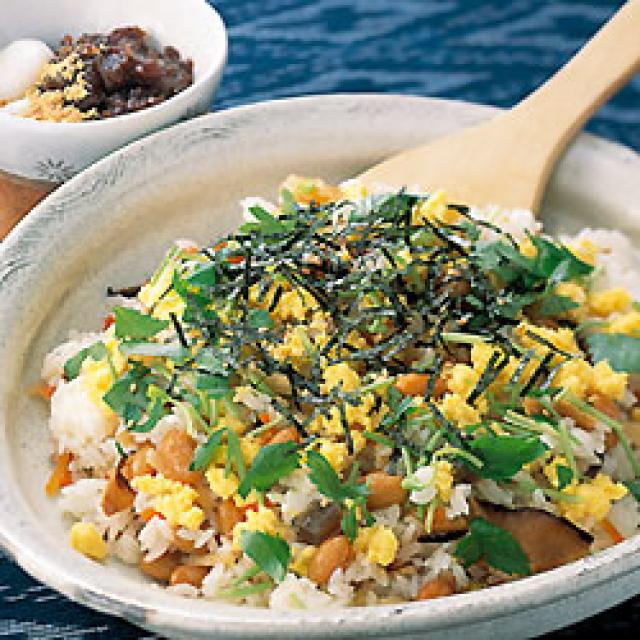寿司卷物: (0, 143, 640, 640)
